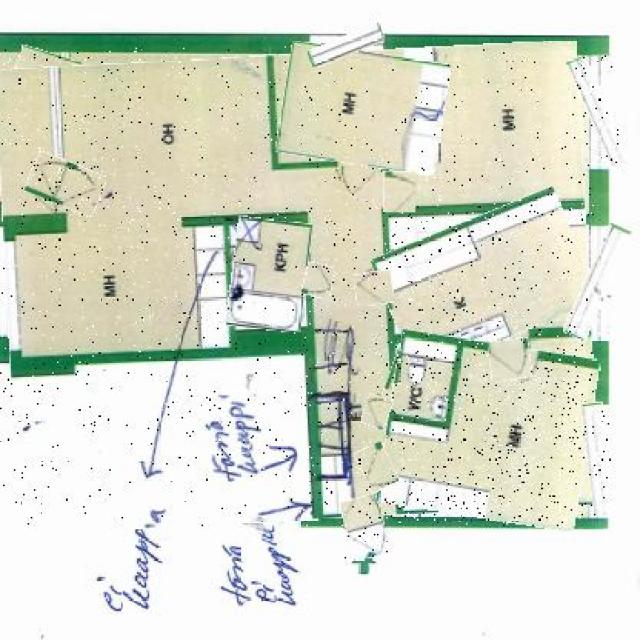door: (26, 157, 105, 211), (343, 496, 388, 558), (489, 338, 531, 382), (358, 444, 394, 490), (354, 271, 394, 306), (383, 171, 415, 212), (303, 263, 334, 299), (342, 166, 376, 194), (363, 395, 391, 428)
window: (576, 223, 622, 342), (577, 56, 618, 166), (585, 403, 612, 515), (308, 30, 384, 61)
zone: (0, 48, 594, 528), (381, 336, 594, 524), (380, 203, 592, 357), (278, 46, 448, 171), (0, 47, 71, 202), (229, 218, 309, 331), (382, 346, 444, 429)
